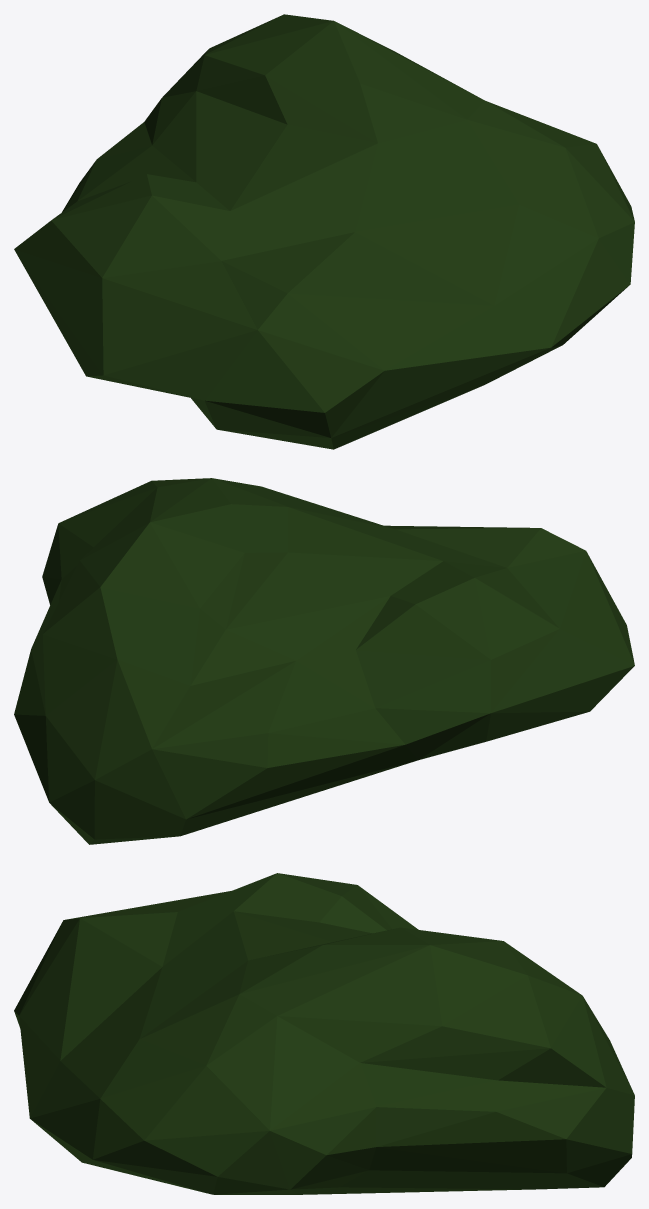
The model's file is SM_bush_07.fbx.
3 renders of one model, top to bottom at view 1: azimuth 30°, elevation 25°; view 2: azimuth 150°, elevation 25°; view 3: azimuth 270°, elevation 25°, orthographic. The views are drawn at different scales.
Visible parts, largest first — view 1: Object120; view 2: Object120; view 3: Object120.
Part boxes in pixels (box(x1,y1,x2,y2)): Object120: box(14, 14, 634, 449); Object120: box(14, 478, 634, 844); Object120: box(14, 873, 634, 1194).
Size of the model in its own units: 179 by 81.75 by 180.
